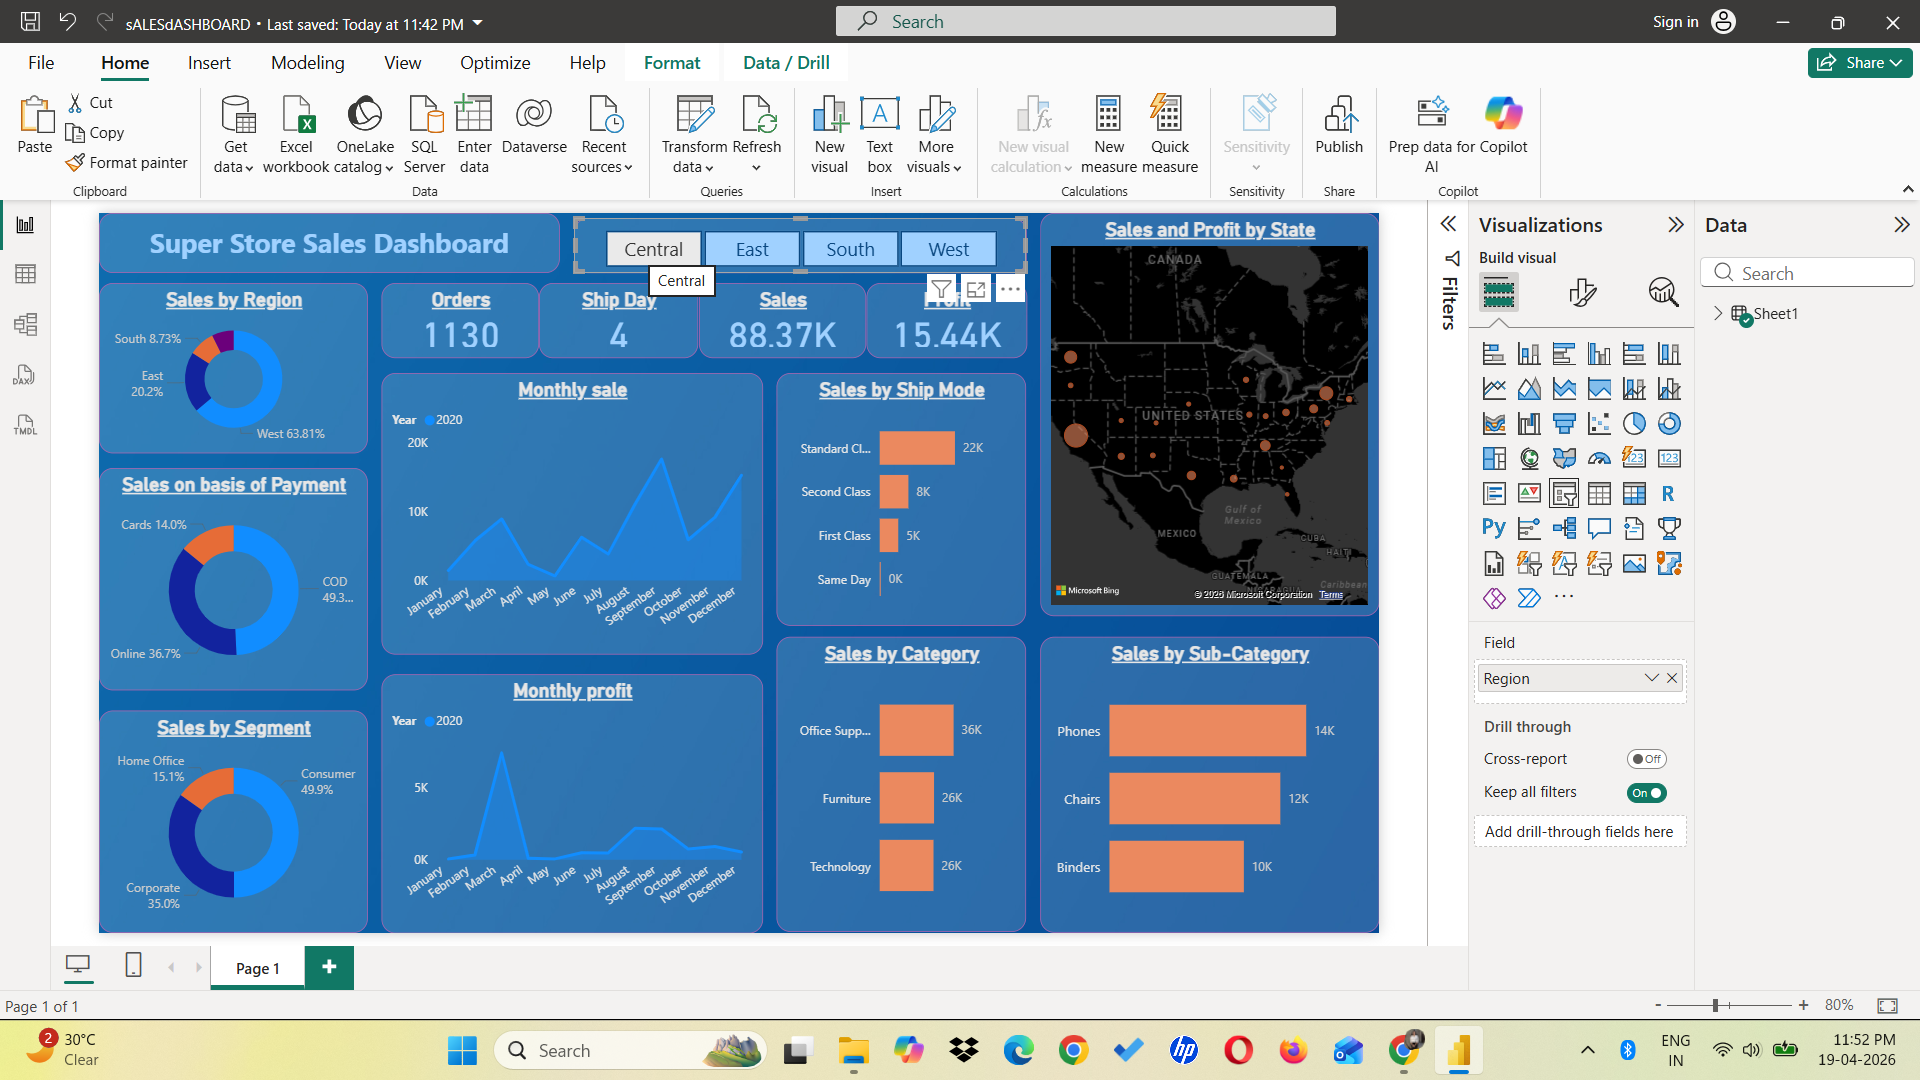

The page's visual inventory and layout, read from the dashboard file:
{"tool":"powerbi","page":{"name":"Page 1","canvas":[1280,720],"ordinal":0},"visuals":[{"type":"clusteredBarChart","title":"Sales by Category","fields":{"Category":["Sheet1.Category"],"Y":["Sum(Sheet1.Sales)"]},"box":[677.9,424,249.7,295],"z":0},{"type":"clusteredBarChart","title":"Sales by Sub-Category","fields":{"Category":["Sheet1.Sub-Category"],"Y":["Sum(Sheet1.Sales)"]},"box":[941.3,424,338.9,296.4],"z":1000},{"type":"clusteredBarChart","title":"Sales by Ship Mode","fields":{"Category":["Sheet1.Ship Mode"],"Y":["Sum(Sheet1.Sales)"]},"box":[677.9,160.5,249.7,252.5],"z":2000},{"type":"stackedAreaChart","title":"Monthly profit","fields":{"Category":["Sheet1.Order Date.Variation.Date Hierarchy.Month","Sheet1.Order Date.Variation.Date Hierarchy.Day"],"Series":["Sheet1.Order Date.Variation.Date Hierarchy.Year"],"Y":["Sum(Sheet1.Profit)"]},"box":[282.7,461.1,381.5,259.3],"z":3000},{"type":"stackedAreaChart","title":"Monthly sale ","fields":{"Y":["Sum(Sheet1.Sales)"],"Category":["Sheet1.Order Date.Variation.Date Hierarchy.Month","Sheet1.Order Date.Variation.Date Hierarchy.Day"],"Series":["Sheet1.Order Date.Variation.Date Hierarchy.Year"]},"box":[282.7,160.5,381.5,281.3],"z":4000},{"type":"map","title":"Sales and Profit by State","fields":{"Category":["Sheet1.State"],"Size":["Sum(Sheet1.Sales)"]},"box":[941.3,0,338.9,403.4],"z":5000},{"type":"donutChart","title":"Sales by Segment","fields":{"Category":["Sheet1.Segment"],"Y":["Sum(Sheet1.Sales)"]},"box":[0,498.1,269,222.3],"z":6000},{"type":"donutChart","title":"Sales on basis of Payment","fields":{"Category":["Sheet1.Payment Mode"],"Y":["Sum(Sheet1.Sales)"]},"box":[0,255.2,269,222.3],"z":7000},{"type":"slicer","fields":{"Values":["Sheet1.Region"]},"box":[474.8,5.5,452.8,54.9],"z":8000},{"type":"textbox","box":[0,0,461.1,60.4],"z":9000},{"type":"card","title":"Sales","fields":{"Values":["Sum(Sheet1.Sales)"]},"box":[599.7,70,167.4,75.5],"z":10000},{"type":"card","title":"Profit","fields":{"Values":["Sum(Sheet1.Profit)"]},"box":[767.1,70,160.5,75.5],"z":11000},{"type":"card","title":"Ship Day","fields":{"Values":["Avg(Sheet1.AvgDelivery)"]},"box":[440.5,70,159.2,75.5],"z":12000},{"type":"card","title":"Orders","fields":{"Values":["Sum(Sheet1.Quantity)"]},"box":[282.7,70,157.8,75.5],"z":13000},{"type":"donutChart","title":"Sales by Region","fields":{"Y":["Sum(Sheet1.Sales)"],"Category":["Sheet1.Region"]},"box":[0,70,269,170.2],"z":13001}]}

Visuals, with their boxes on the page's 1280x720 design canvas (x1, y1, x2, y2). These are canvas units, not pixel positions in the 1920x1080 screenshot, which may show the page scaled, cropped or inside an application window:
"Sales by Category" clusteredBarChart: select_region(678, 424, 928, 719)
"Sales by Sub-Category" clusteredBarChart: select_region(941, 424, 1280, 720)
"Sales by Ship Mode" clusteredBarChart: select_region(678, 160, 928, 413)
"Monthly profit" stackedAreaChart: select_region(283, 461, 664, 720)
"Monthly sale " stackedAreaChart: select_region(283, 160, 664, 442)
"Sales and Profit by State" map: select_region(941, 0, 1280, 403)
"Sales by Segment" donutChart: select_region(0, 498, 269, 720)
"Sales on basis of Payment" donutChart: select_region(0, 255, 269, 478)
slicer - Sheet1.Region: select_region(475, 6, 928, 60)
textbox: select_region(0, 0, 461, 60)
"Sales" card: select_region(600, 70, 767, 146)
"Profit" card: select_region(767, 70, 928, 146)
"Ship Day" card: select_region(440, 70, 600, 146)
"Orders" card: select_region(283, 70, 440, 146)
"Sales by Region" donutChart: select_region(0, 70, 269, 240)
